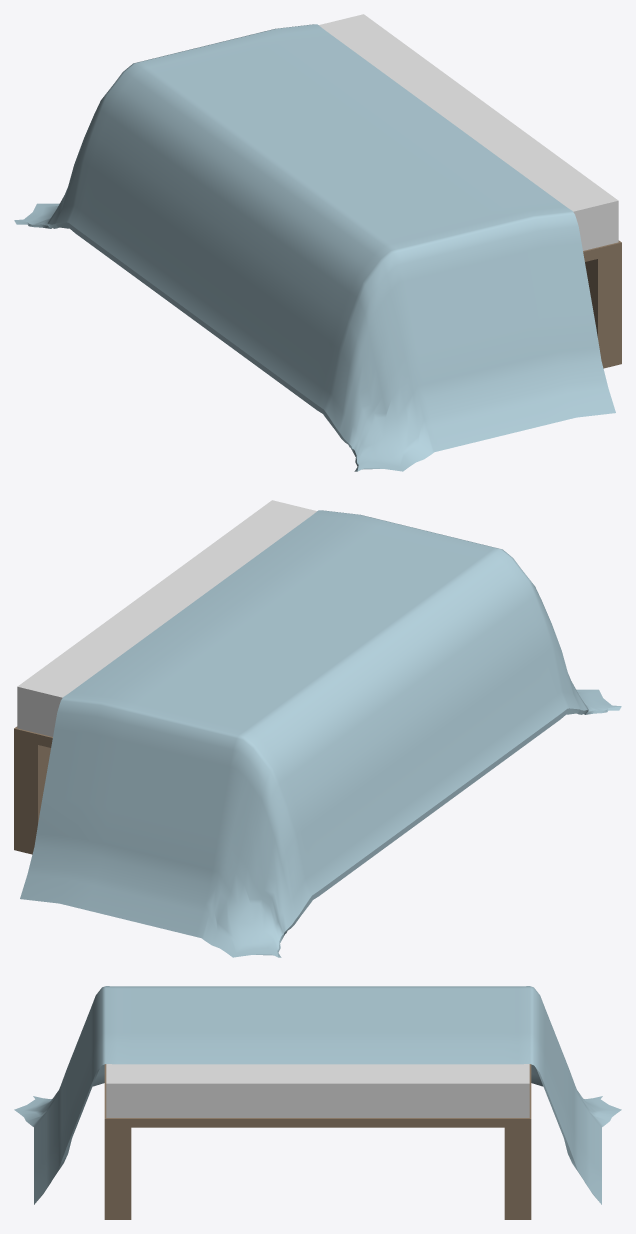
File: bed_Scurry.fbx
3 views of the same model, one above another, from view 1: azimuth 30°, elevation 25°; view 2: azimuth 150°, elevation 25°; view 3: azimuth 270°, elevation 25° (orthographic). The views are drawn at different scales.
Visible parts, largest first — view 1: bedMatress; view 2: bedMatress; view 3: bedMatress.
Boxes of the visible parts, x1=… form: bedMatress: x1=14, y1=14, x2=621, y2=471; bedMatress: x1=14, y1=500, x2=621, y2=957; bedMatress: x1=14, y1=986, x2=621, y2=1219.
Size of the model in its own units: 774 by 421 by 1593.
